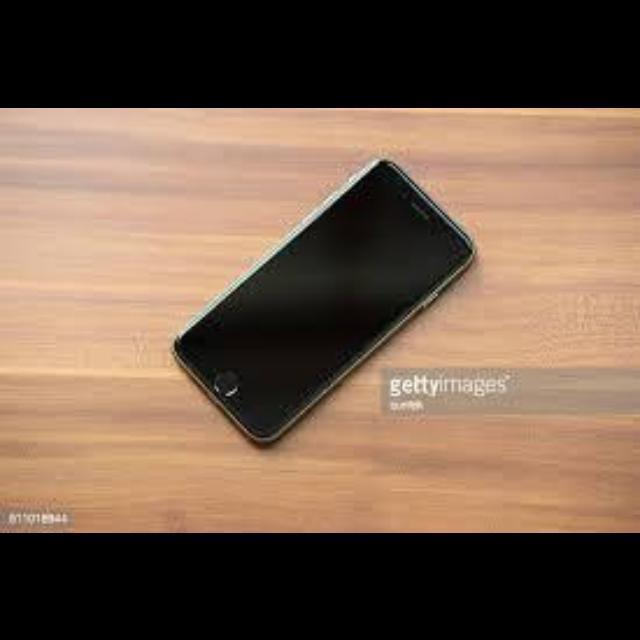phone: (171, 166, 476, 452)
